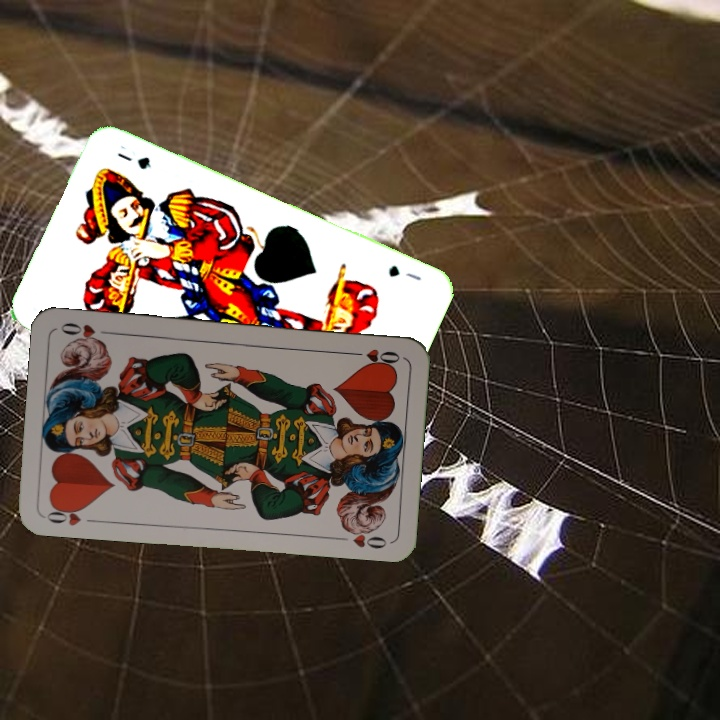GU: (384, 261, 424, 284)
HO: (43, 501, 101, 529), (345, 344, 403, 367)
